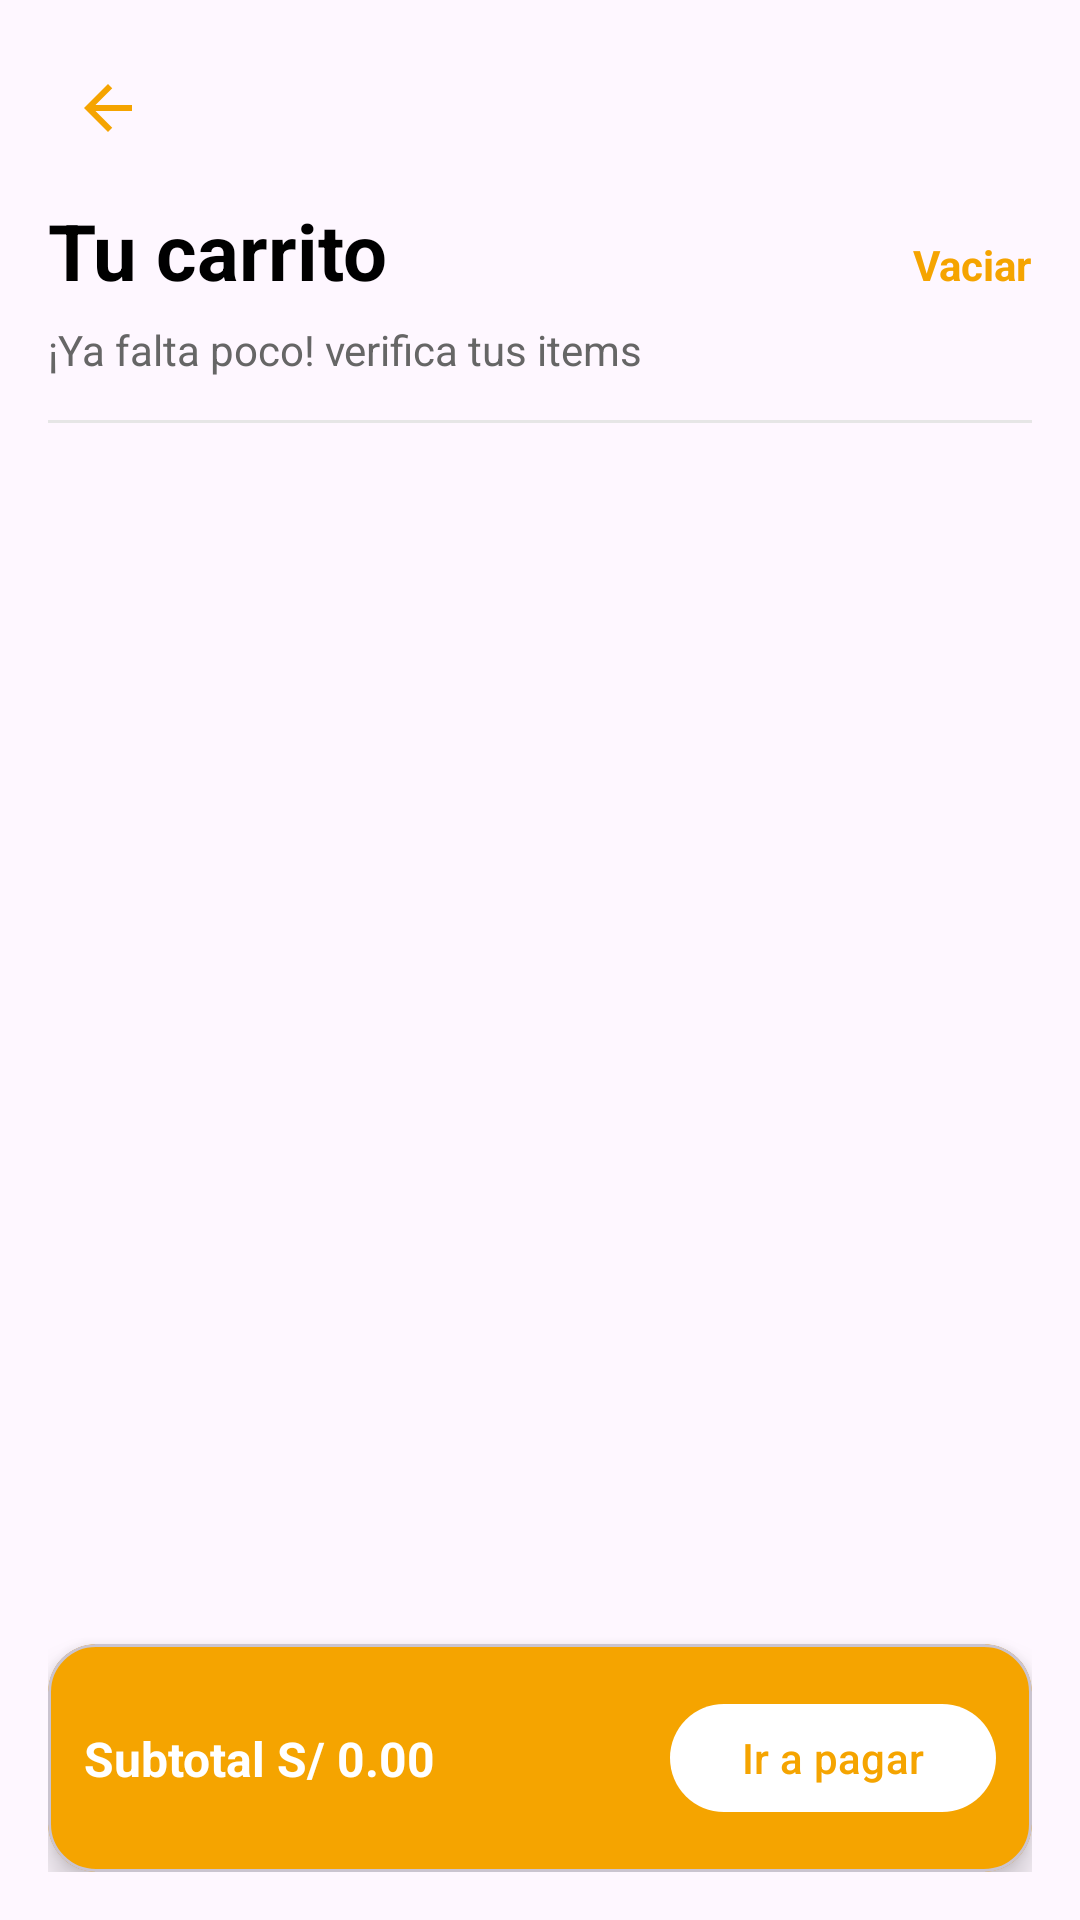

Screen size 1080 × 1920. Icon name, then its box in pixels as (x1, y1, x2, y2):
arrow back: (84, 84, 132, 132)
